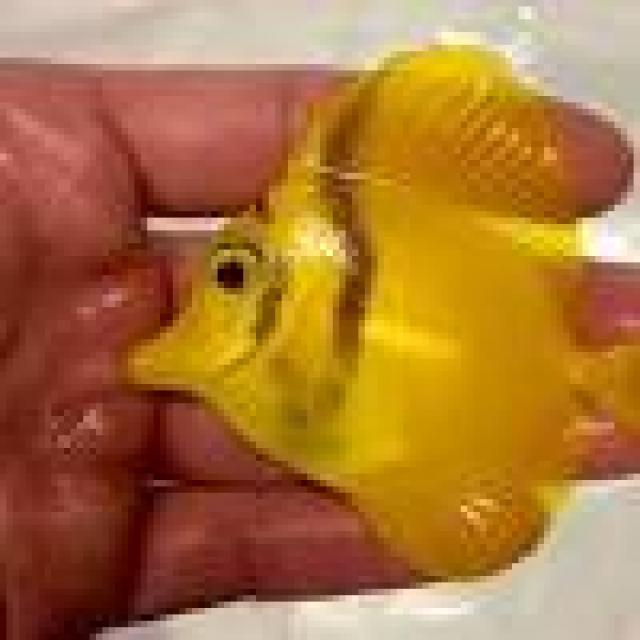YellowTang: (111, 29, 640, 593)
